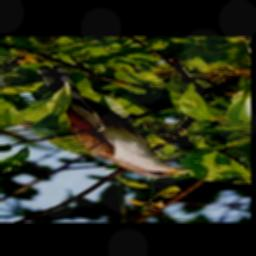Cuckoo: (36, 65, 193, 178)
